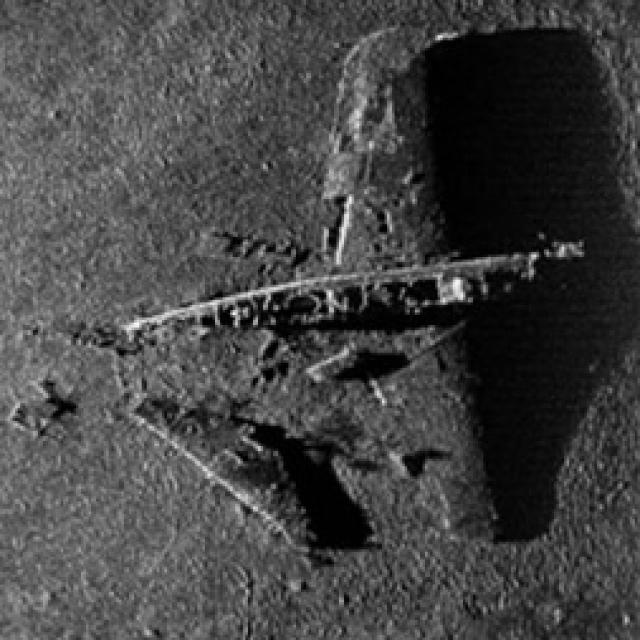plane: (106, 25, 590, 542)
